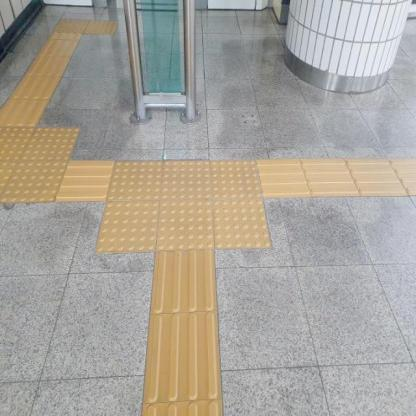podotacti: (86, 142, 284, 280), (142, 252, 225, 415), (0, 102, 97, 221), (0, 35, 84, 128), (264, 155, 416, 198), (66, 157, 106, 200), (54, 14, 116, 34)
